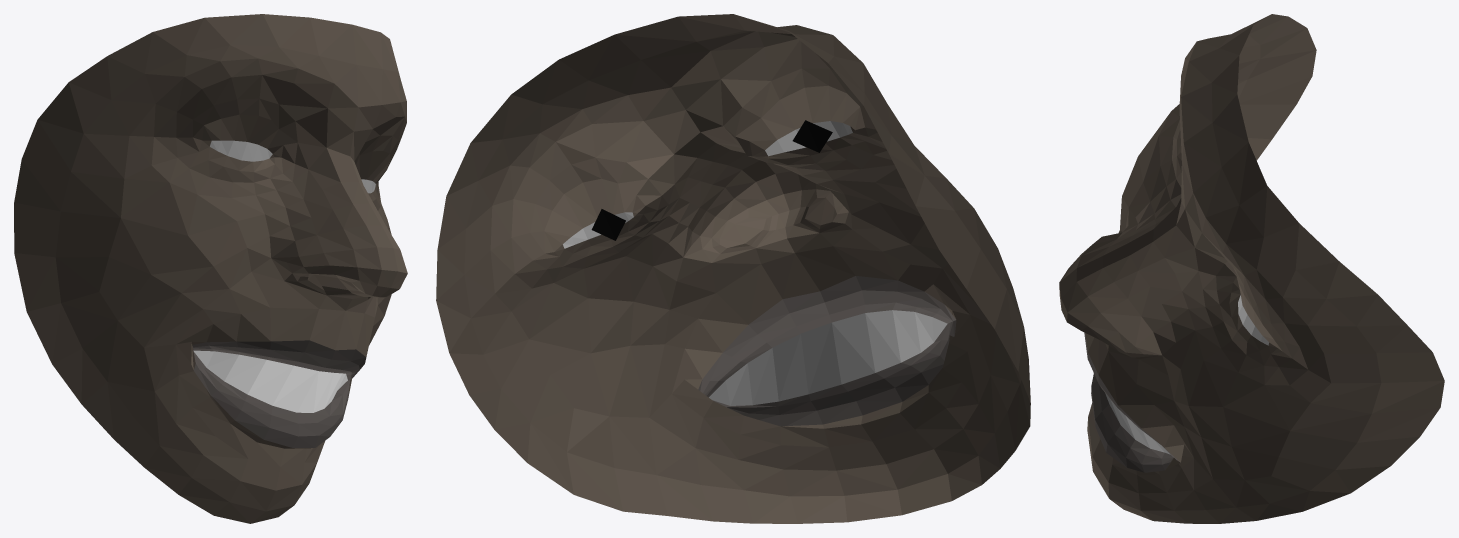
The model's file is 01HGEDWSV1Q3M9A2KQ7391PC5J-low-res-branded.obj.
3 renders of one model, left to right at view 1: azimuth 30°, elevation 25°; view 2: azimuth 150°, elevation 25°; view 3: azimuth 270°, elevation 25°, orthographic. The views are drawn at different scales.
Visible parts, largest first — view 1: face_model_with_iris; view 2: face_model_with_iris; view 3: face_model_with_iris.
Boxes of the visible parts, <box> form: face_model_with_iris: <box>14,14,407,523</box>; face_model_with_iris: <box>436,14,1030,523</box>; face_model_with_iris: <box>1059,14,1444,523</box>.
Size of the model in its own units: 0.9222 by 0.9863 by 0.7207.
